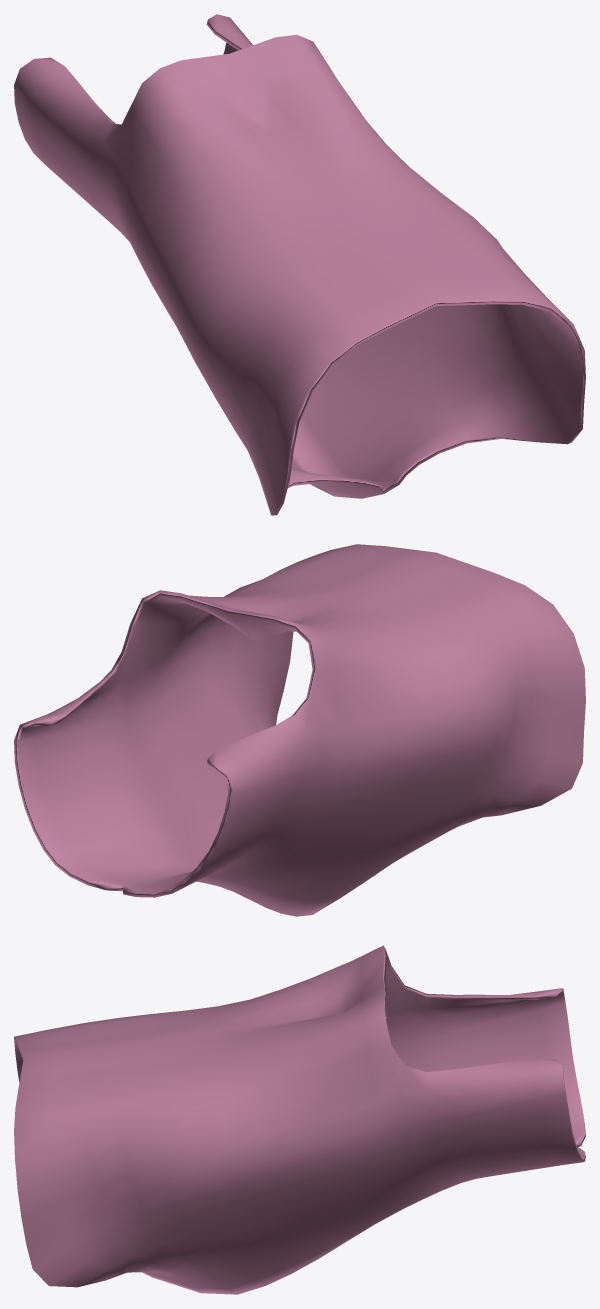
The picture shows the model from 3 angles, top to bottom: view 1: azimuth 30°, elevation 25°; view 2: azimuth 150°, elevation 25°; view 3: azimuth 270°, elevation 25°; orthographic projection. The views are drawn at different scales.
Visible parts, largest first — view 1: 喉咽; view 2: 喉咽; view 3: 喉咽.
Boxes of the visible parts, left/top/right/bottom form: 喉咽: left=14, top=14, right=585, bottom=515; 喉咽: left=14, top=544, right=585, bottom=916; 喉咽: left=14, top=945, right=585, bottom=1294.
Size of the model in its own units: 0.0425 by 0.0495 by 0.0796.
